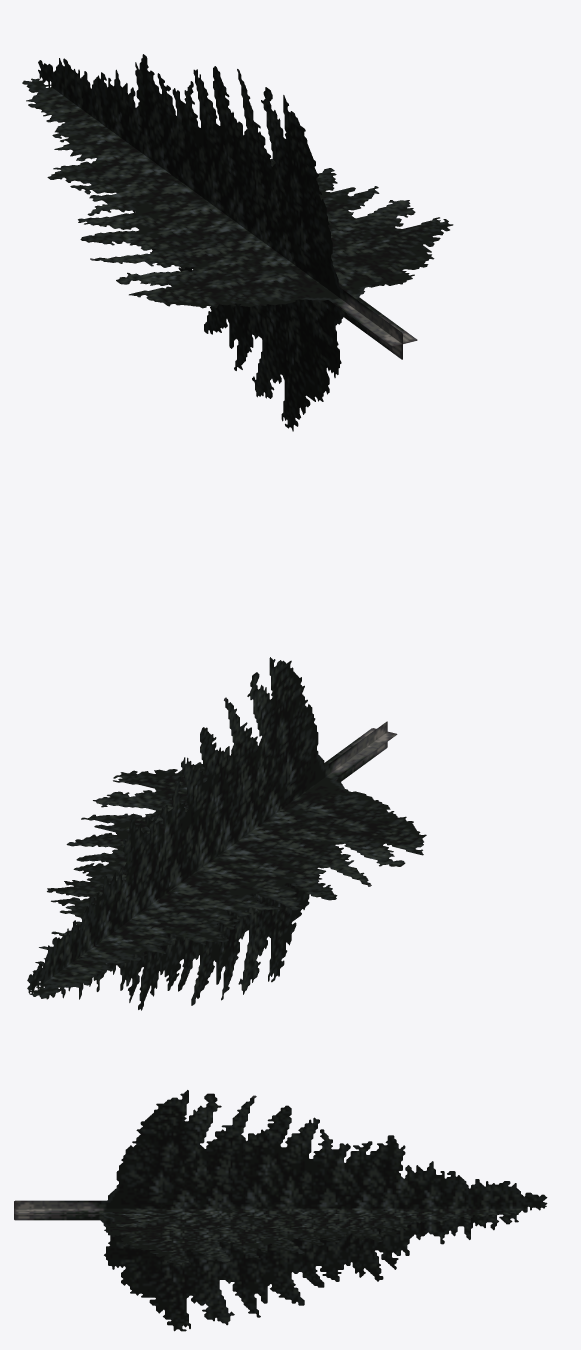
File: SM_EC_Tree_Cross_00.fbx
The picture shows the model from 3 angles, top to bottom: view 1: azimuth 30°, elevation 25°; view 2: azimuth 150°, elevation 25°; view 3: azimuth 270°, elevation 25°; orthographic projection. The views are drawn at different scales.
Visible parts, largest first — view 1: SM_EC_Tree_Cross_00; view 2: SM_EC_Tree_Cross_00; view 3: SM_EC_Tree_Cross_00.
Part boxes in pixels (x1,y1,x2,y2): SM_EC_Tree_Cross_00: [22, 54, 453, 431]; SM_EC_Tree_Cross_00: [27, 657, 426, 1010]; SM_EC_Tree_Cross_00: [14, 1090, 547, 1331].
Bounding box in the file's own units: 2.11 × 3.95 × 2.11.
